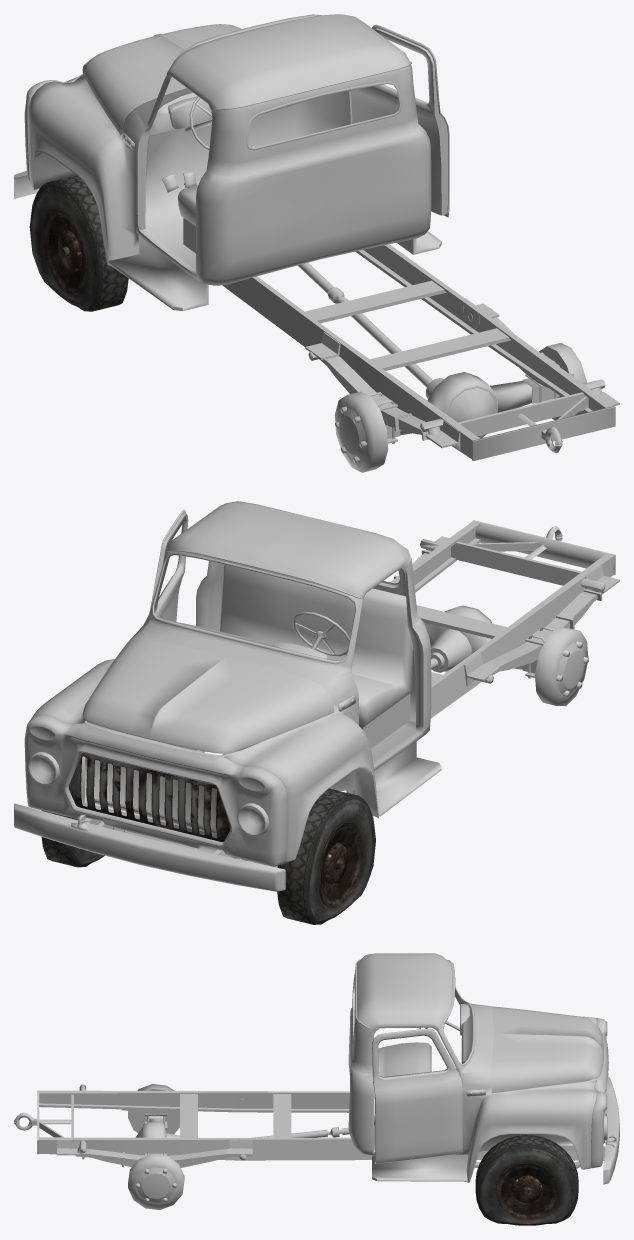
Rendered from ZiL_130.FBX.
3 renders of one model, top to bottom at view 1: azimuth 30°, elevation 25°; view 2: azimuth 150°, elevation 25°; view 3: azimuth 270°, elevation 25°, orthographic. The views are drawn at different scales.
Visible parts, largest first — view 1: cabina, wheel001, dver; view 2: cabina, wheel001, reshetka, dver, wheel; view 3: cabina, dver, wheel.
Part boxes in pixels (left/top/right/bottom): cabina: left=14, top=14, right=619, bottom=472; wheel001: left=29, top=175, right=128, bottom=311; dver: left=350, top=24, right=449, bottom=217; cabina: left=14, top=501, right=619, bottom=891; wheel001: left=277, top=788, right=375, bottom=924; reshetka: left=68, top=753, right=230, bottom=841; dver: left=143, top=509, right=188, bottom=624; wheel: left=41, top=810, right=104, bottom=867; cabina: left=14, top=953, right=619, bottom=1209; dver: left=372, top=1028, right=462, bottom=1163; wheel: left=475, top=1135, right=578, bottom=1225.
Size of the model in its own units: 1.62 by 1.56 by 4.2.
